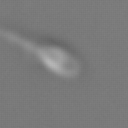normal: (1, 22, 42, 52)
